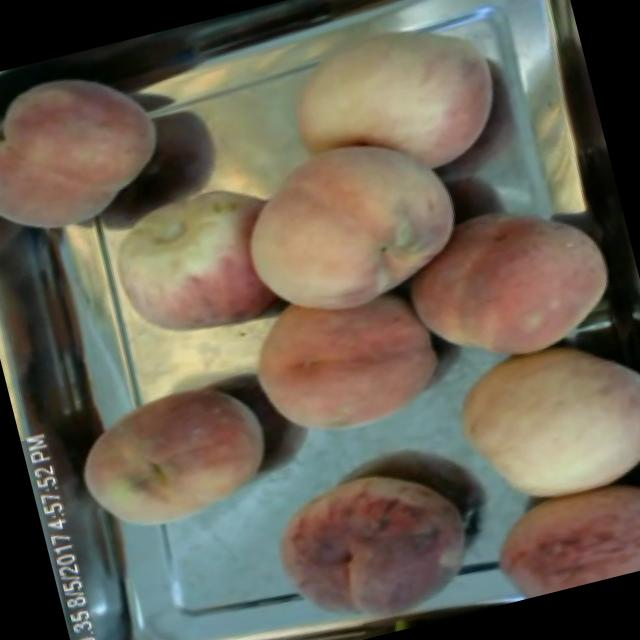Fruit: (214, 100, 488, 338), (252, 0, 527, 216), (246, 428, 512, 640), (377, 164, 635, 379), (235, 265, 472, 464), (420, 318, 640, 522), (56, 361, 289, 549), (92, 154, 306, 358), (0, 42, 184, 261), (452, 435, 640, 609)
